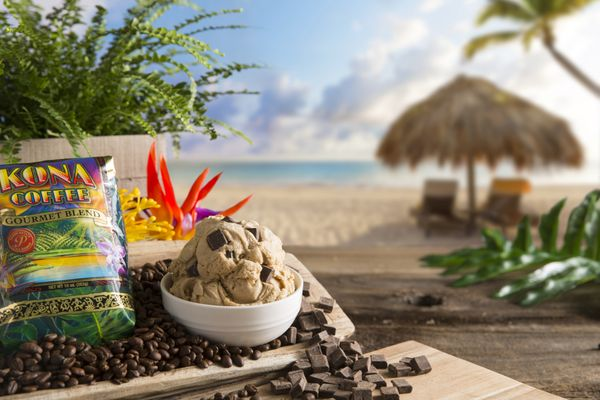sushi: (158, 265, 304, 348)
